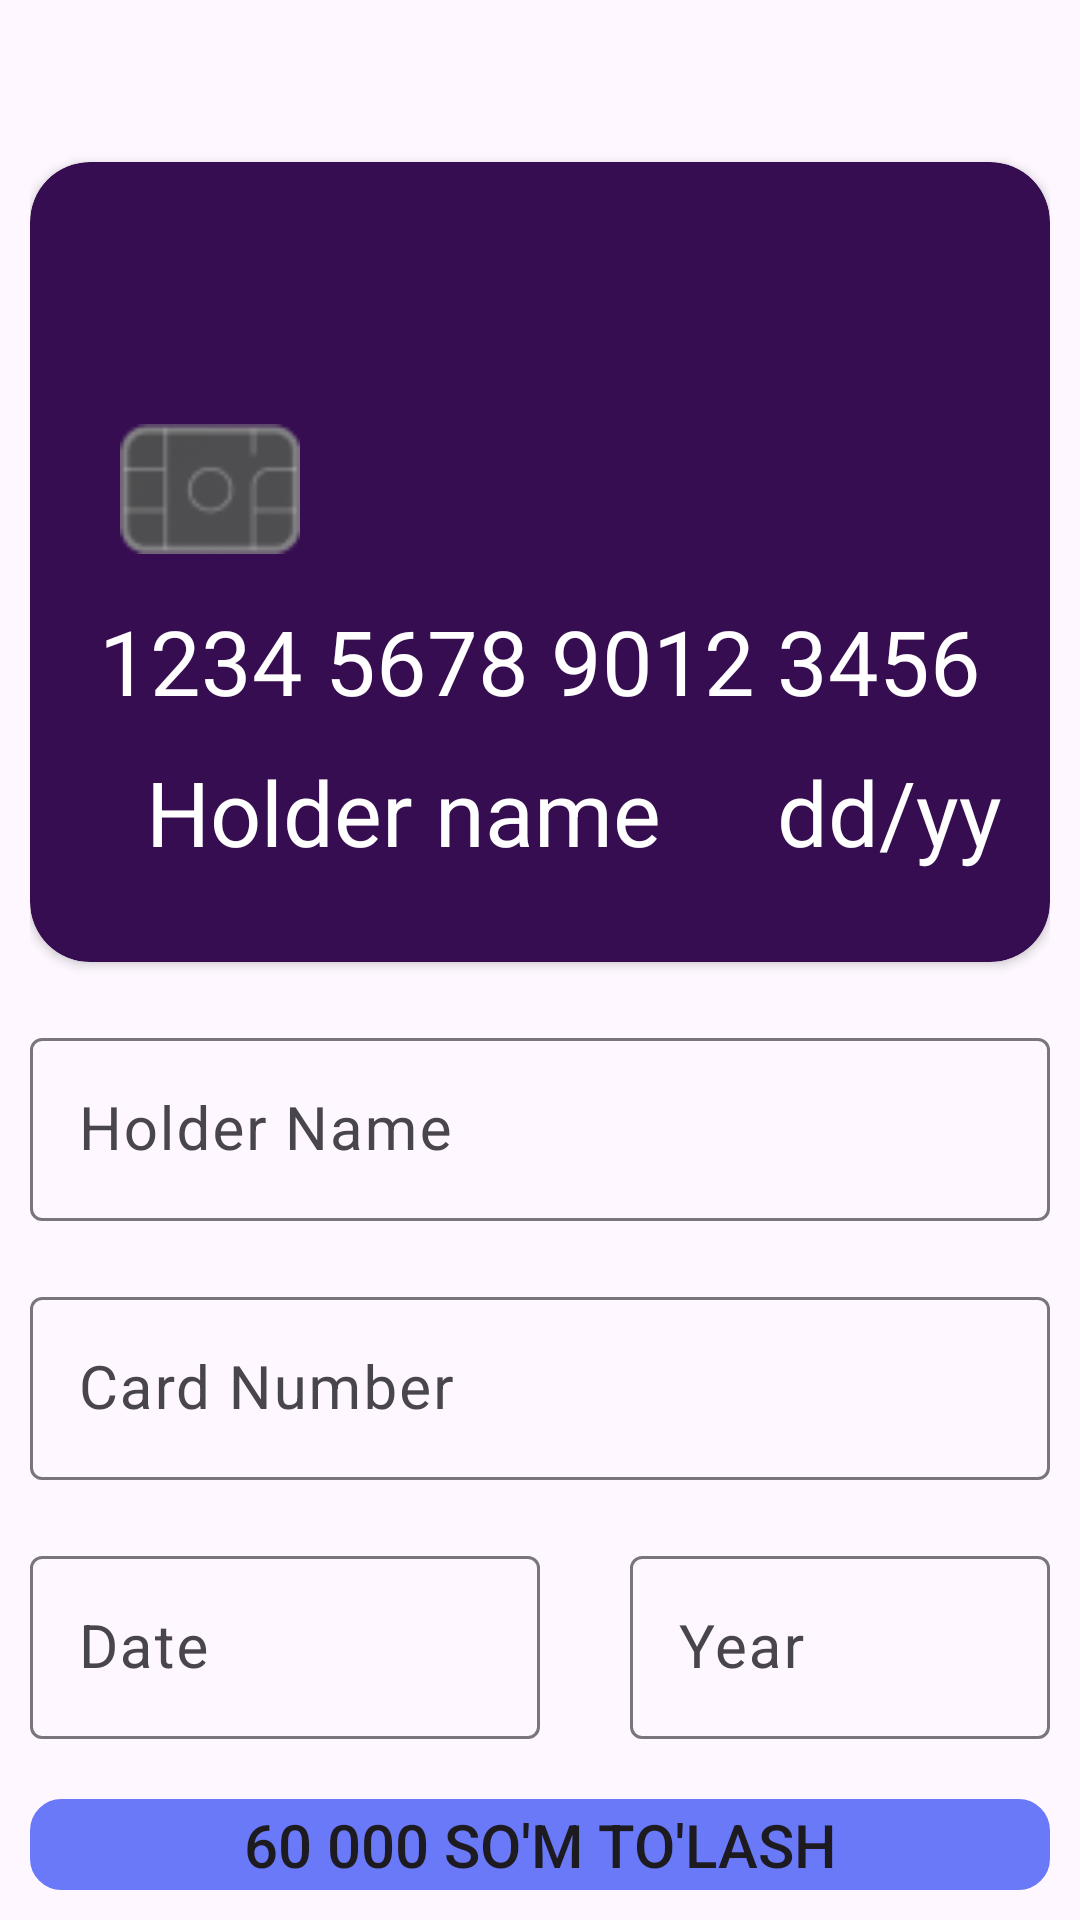

Screen size 1080*1920. Icon name, then its center in pixels as point (x, y):
chip: point (210, 489)
